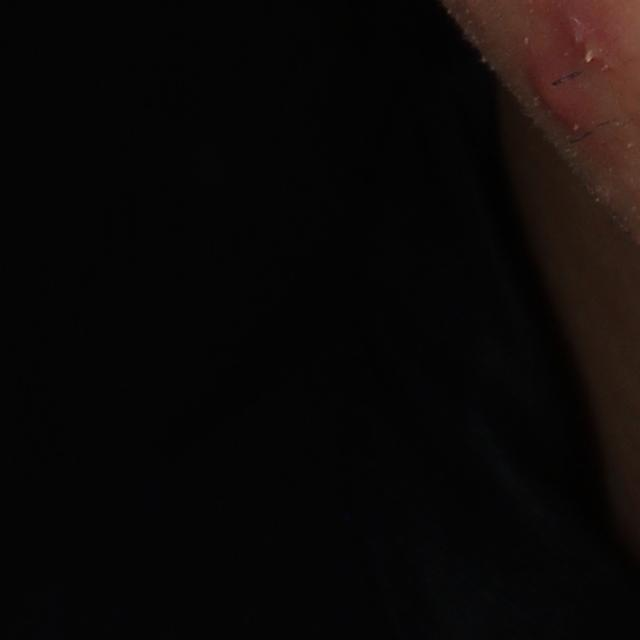papule: (526, 49, 600, 139)
